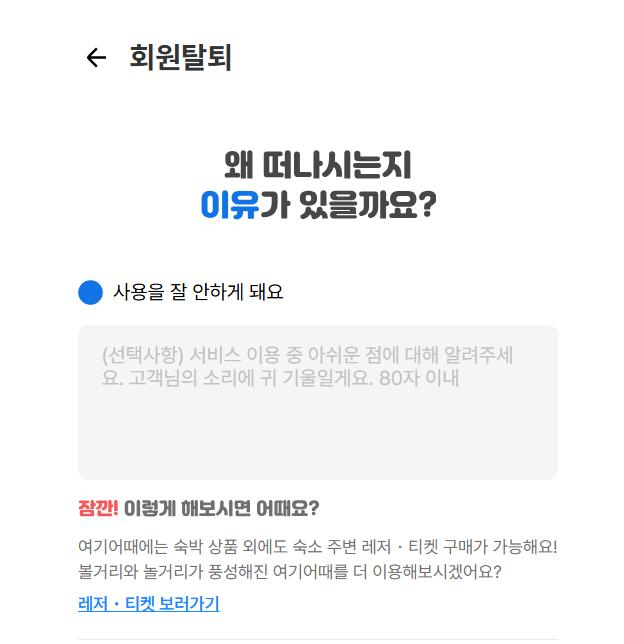button: (78, 594, 221, 615), (80, 42, 108, 71)
input_field: (79, 325, 561, 480)
